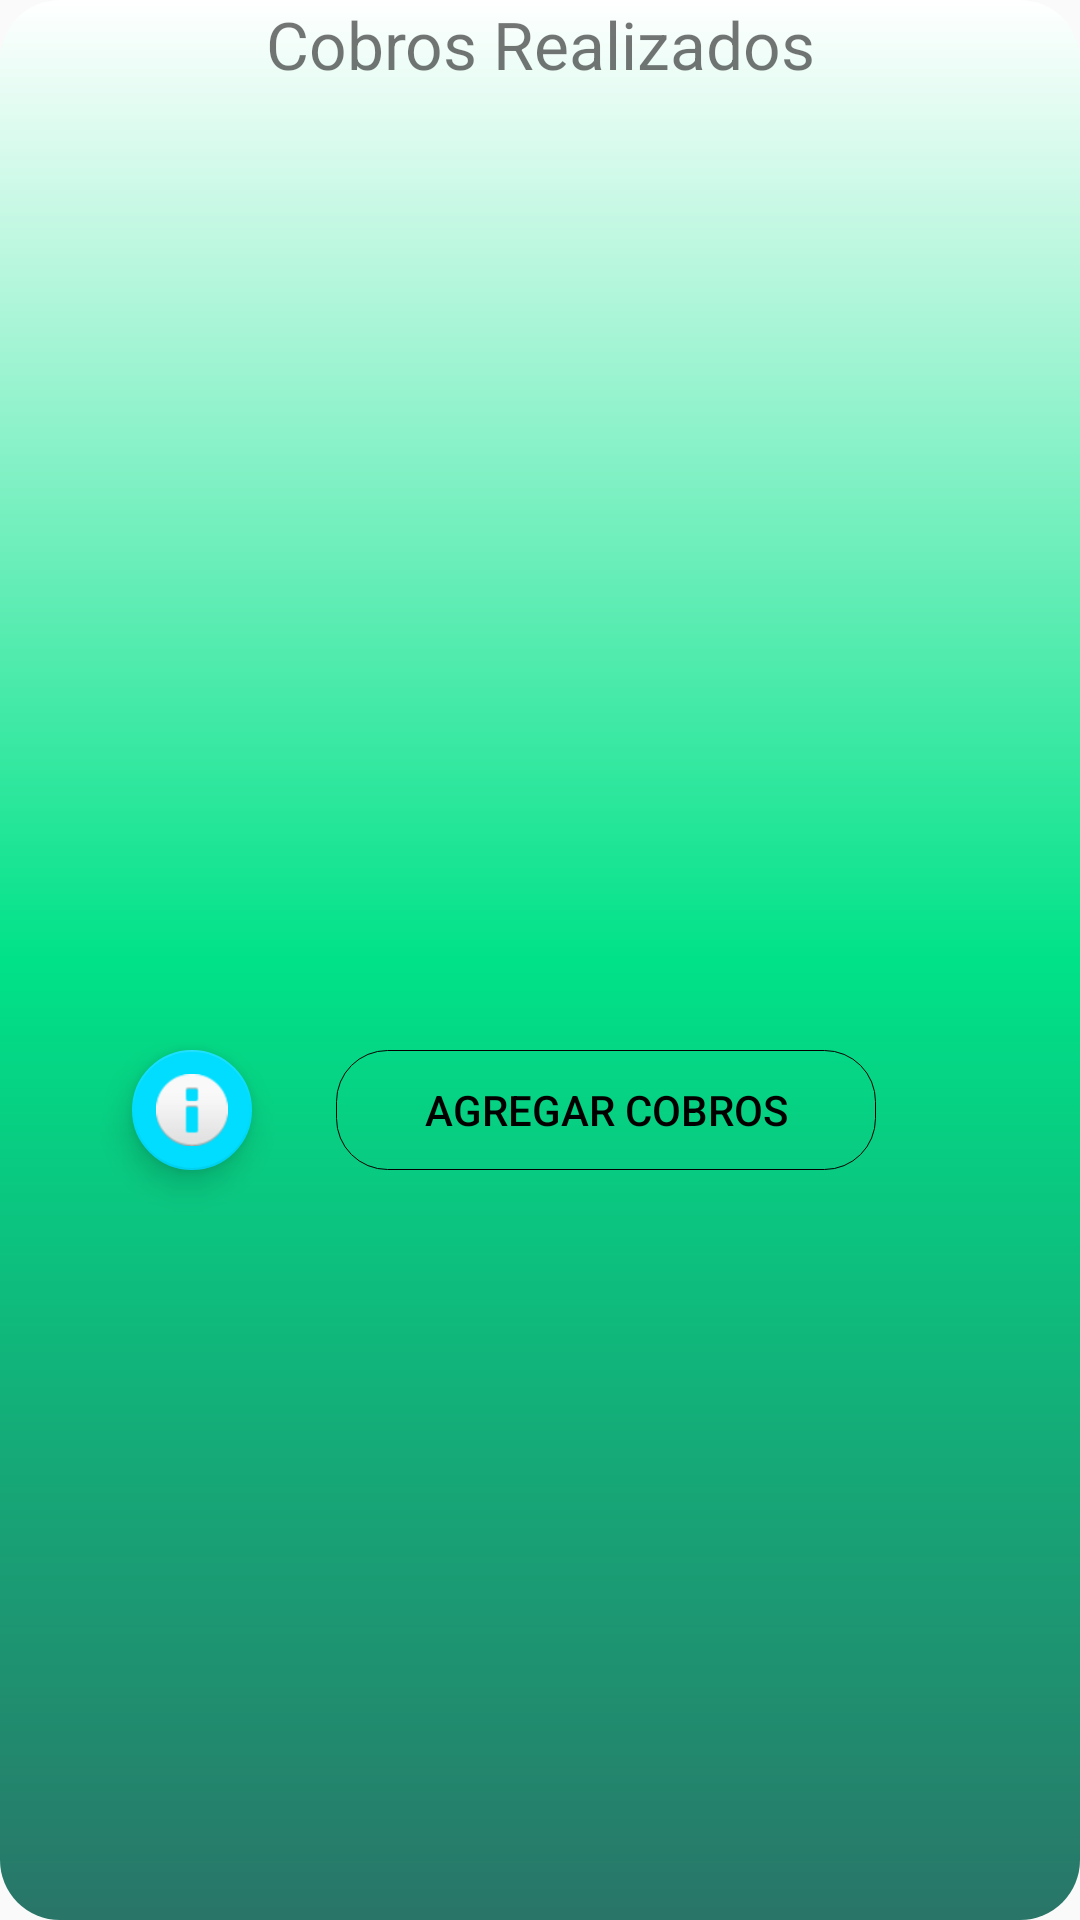

Icons on this 1080px×1920px Android screen, each with the point to tap as (x,y):
info: (192,1110)
